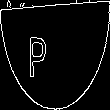P_N: (45, 29, 65, 81)
